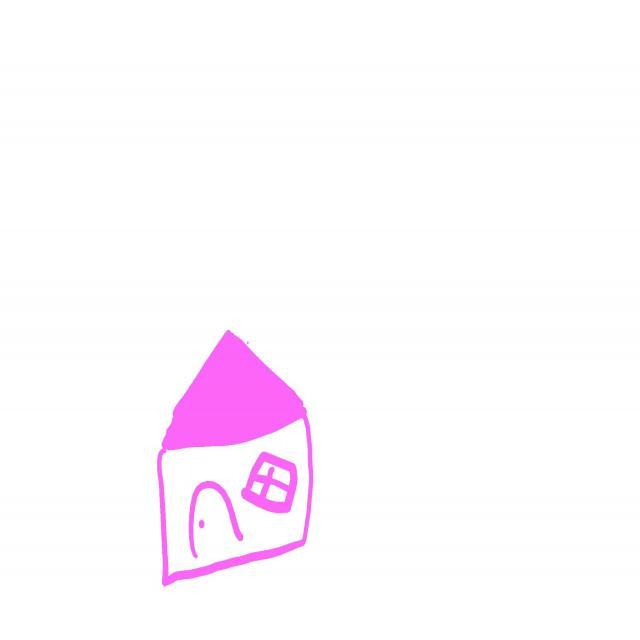door: (189, 483, 243, 559)
house: (158, 332, 313, 586)
roof: (160, 332, 309, 452)
wall: (160, 418, 311, 582)
window: (242, 453, 297, 514)
